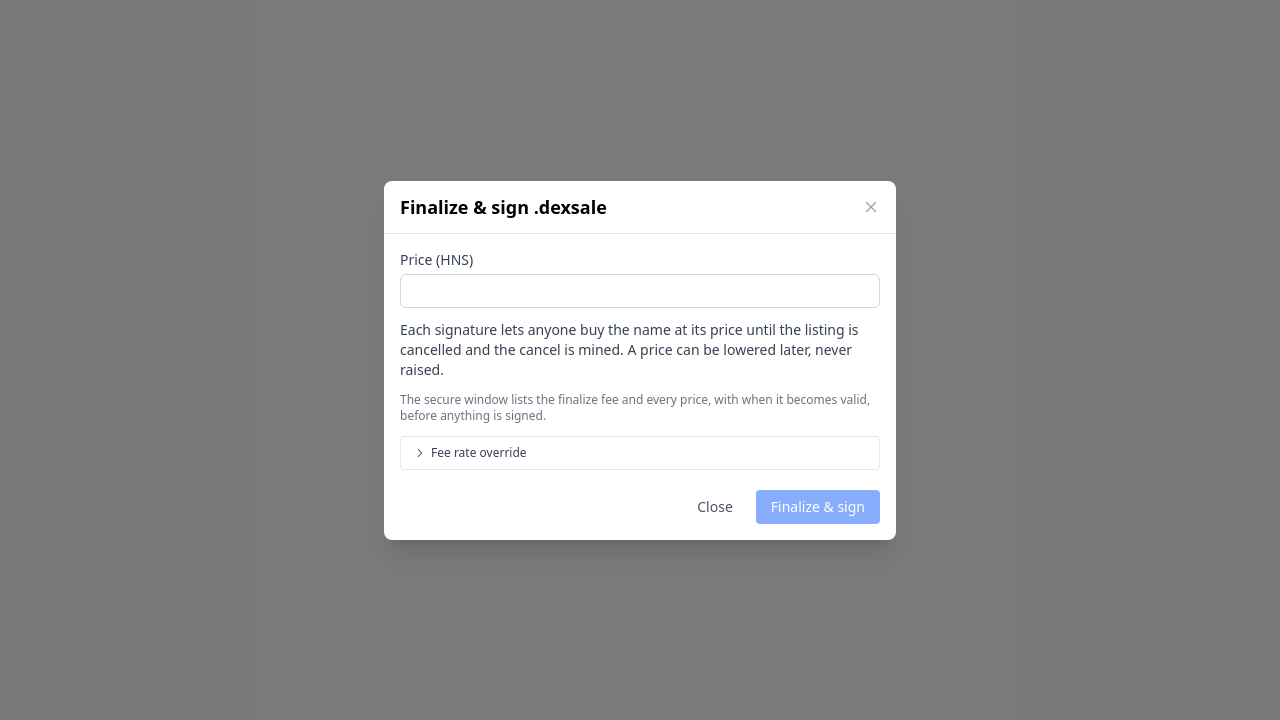
Test: FinalizeAndSign › a finalize the backend answers without its draft says so instead of sent
Type "5" into the field with test id "fas-price".
click(640, 290); type("5")  # box [400,274,880,308]
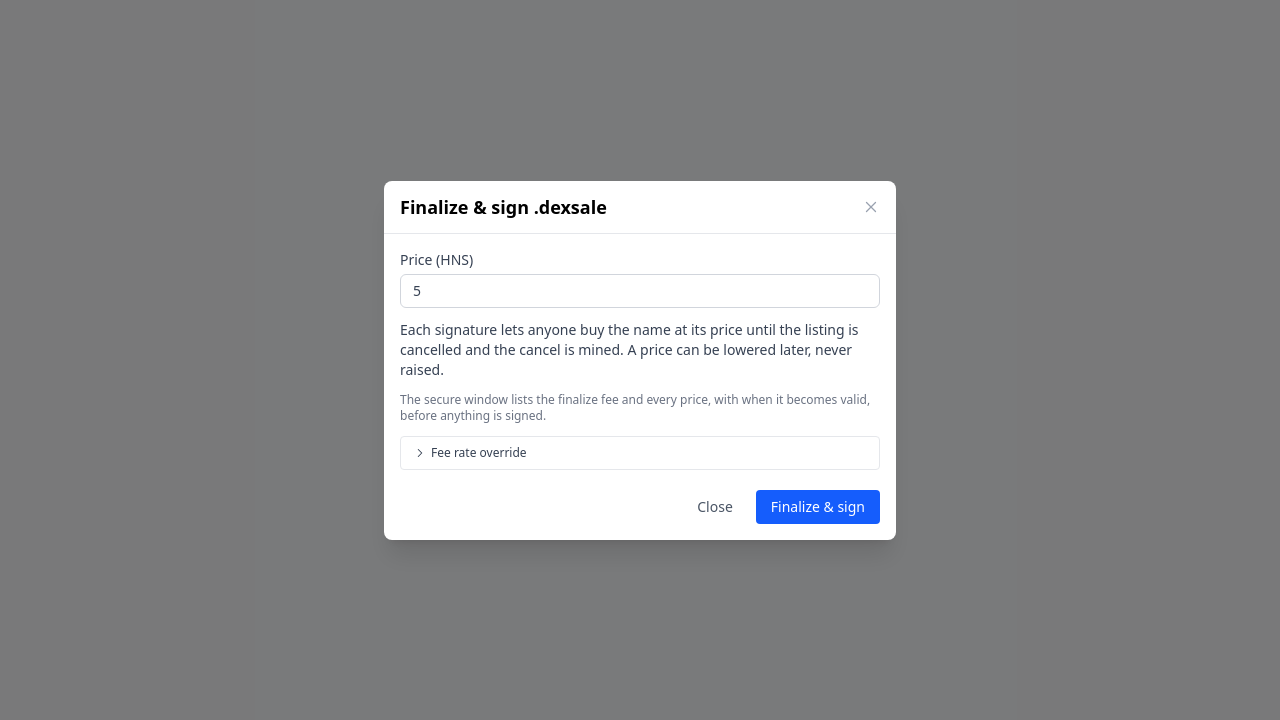
Expected: the button with test id "fas-submit" is enabled
Click the button with test id "fas-submit".
click(818, 506)  # box [756,490,880,524]
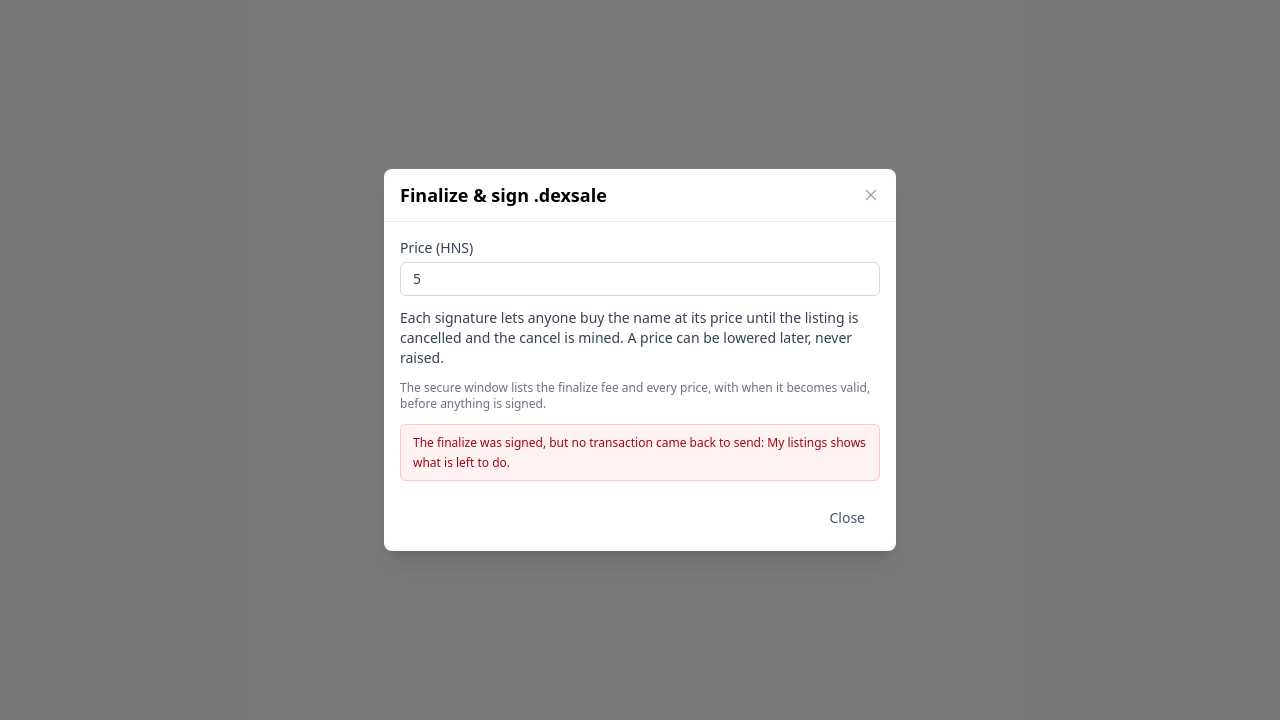
Expected: the text with test id "fas-error" shows "The finalize was signed, but no transaction came back to send: My listings shows what is left to do.", [413,434,866,470]
